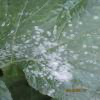Squash Powdery mildew leaf: (2, 0, 99, 99)
